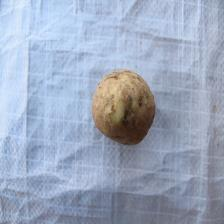Diseased-fungal potato: (90, 66, 157, 148)
